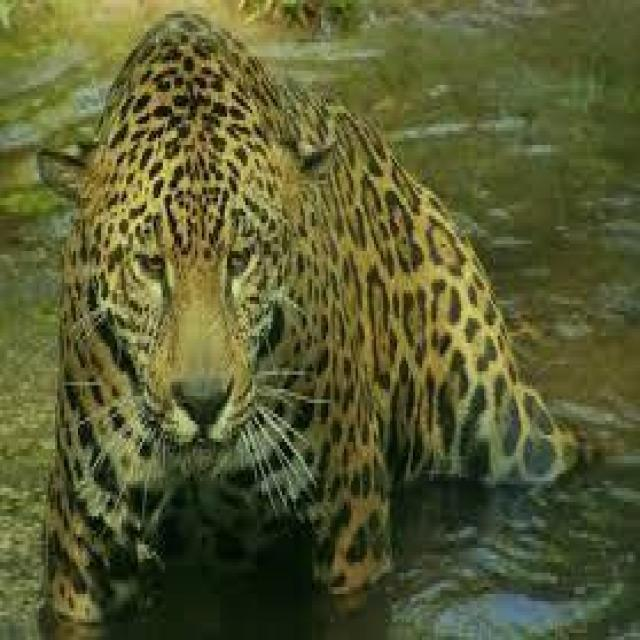Jaguar: (46, 18, 571, 587)
